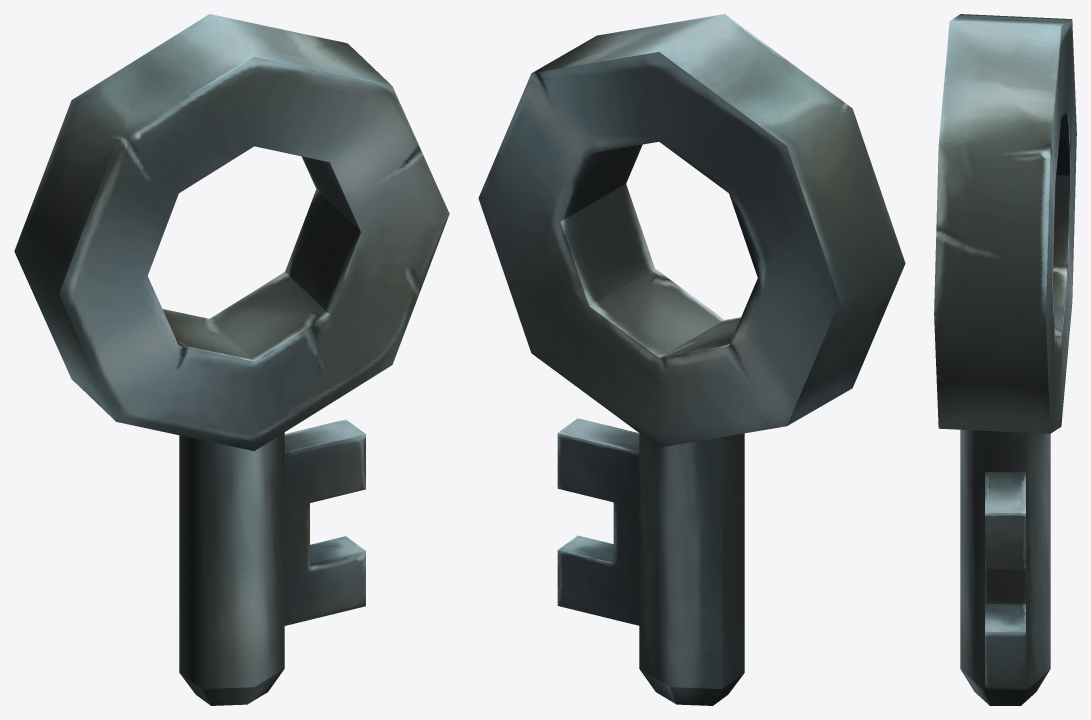
File: 28_key.FBX
The picture shows the model from 3 angles, left to right: view 1: azimuth 30°, elevation 25°; view 2: azimuth 150°, elevation 25°; view 3: azimuth 270°, elevation 25°; orthographic projection.
Parts seen in each view (by area): view 1: 28_key; view 2: 28_key; view 3: 28_key.
Part boxes in pixels (x1,y1,x2,y2): 28_key: (14,14,449,705); 28_key: (478,14,905,705); 28_key: (934,14,1076,705).
Bounding box in the file's own units: 31.53 × 51.4 × 9.96.
